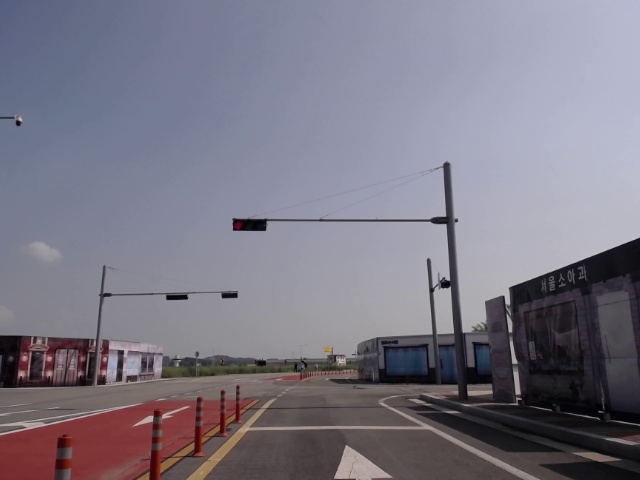red_3: (231, 220, 267, 230)
